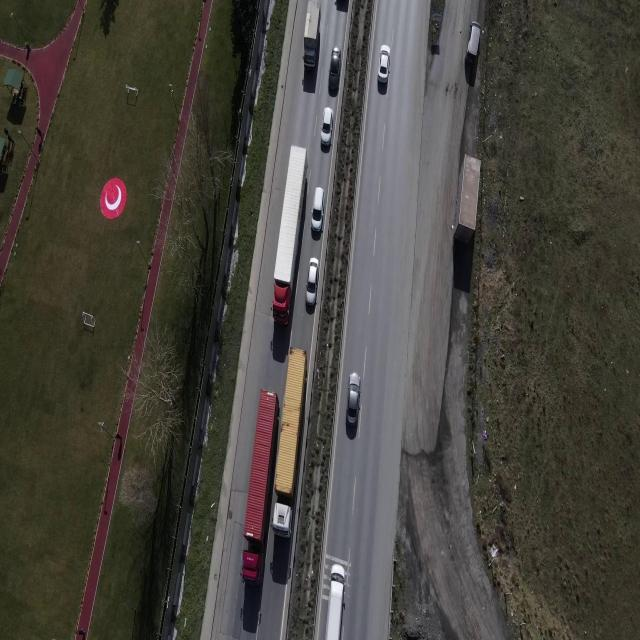p3rson: (36, 126, 44, 140), (4, 128, 10, 140), (78, 629, 86, 636), (116, 433, 122, 441)
